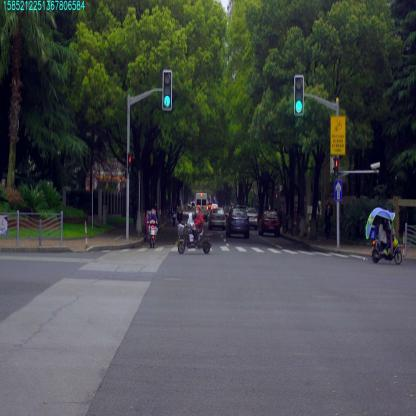traffic-light: (163, 71, 172, 109), (295, 76, 303, 114)
